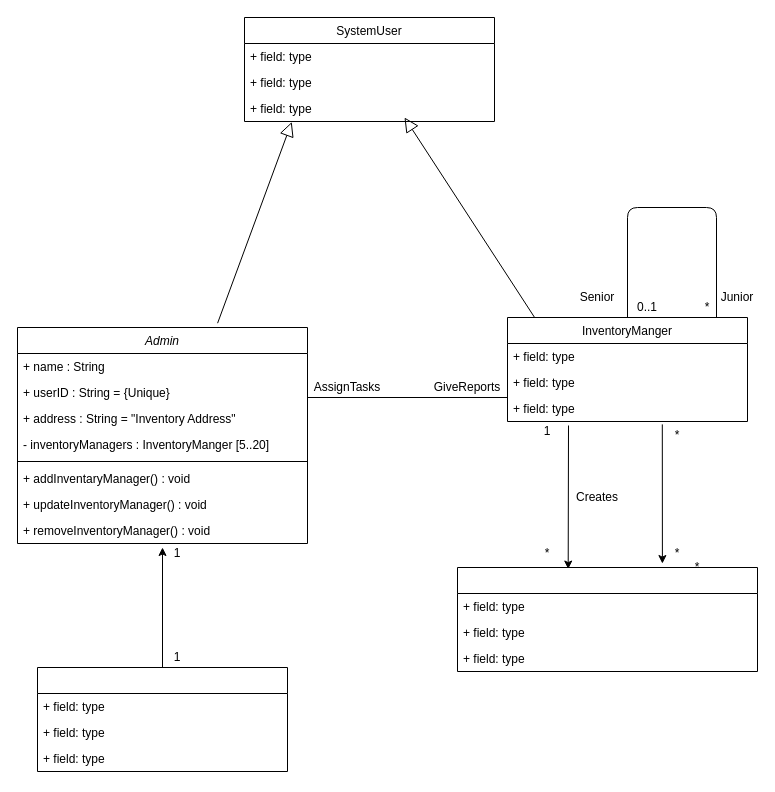
Image size: 775x792. Some labels were removed from this diagram. Each missing label, with the box of its shape:
NotificationService: (36, 666, 288, 772)
Order: (456, 566, 758, 672)
